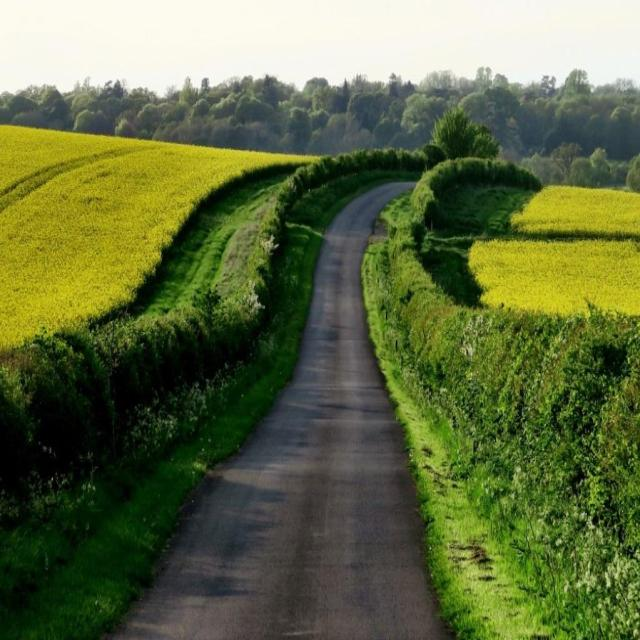row: (95, 175, 463, 640)
